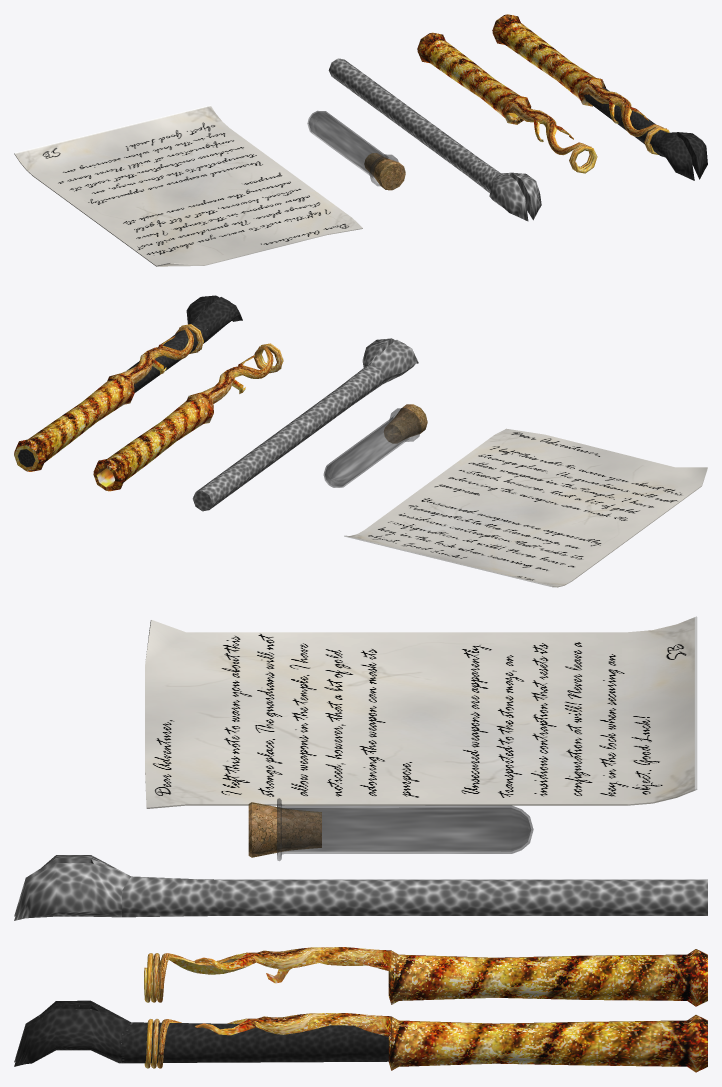
File: ActionObjects.FBX
The picture shows the model from 3 angles, top to bottom: view 1: azimuth 30°, elevation 25°; view 2: azimuth 150°, elevation 25°; view 3: azimuth 270°, elevation 25°; orthographic projection. The views are drawn at different scales.
Visible parts, largest first — view 1: Message, Crowbar With Sleeve, Crowbar, Golden Sleeve, Vial of Elixir; view 2: Message, Crowbar With Sleeve, Crowbar, Golden Sleeve, Vial of Elixir; view 3: Message, Crowbar With Sleeve, Crowbar, Golden Sleeve, Vial of Elixir.
Boxes of the visible parts, x1,y1,x2,y2 form: Message: (14,105,362,266); Crowbar With Sleeve: (492,14,707,180); Crowbar: (328,58,541,221); Golden Sleeve: (417,32,597,173); Vial of Elixir: (307,111,405,190); Message: (344,428,707,587); Crowbar With Sleeve: (14,295,242,471); Crowbar: (192,338,418,511); Golden Sleeve: (93,343,283,491); Vial of Elixir: (323,404,427,487); Message: (145,616,697,808); Crowbar With Sleeve: (14,1000,707,1072); Crowbar: (14,855,707,920); Golden Sleeve: (144,947,707,1006); Vial of Elixir: (248,798,533,860).
Size of the model in its own units: 728 by 474 by 48.92.
